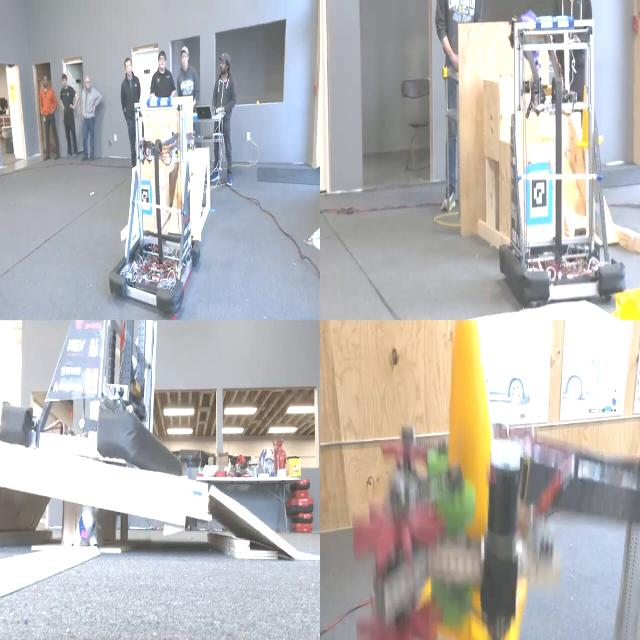frc_cone: (414, 318, 524, 640), (573, 79, 605, 161)
